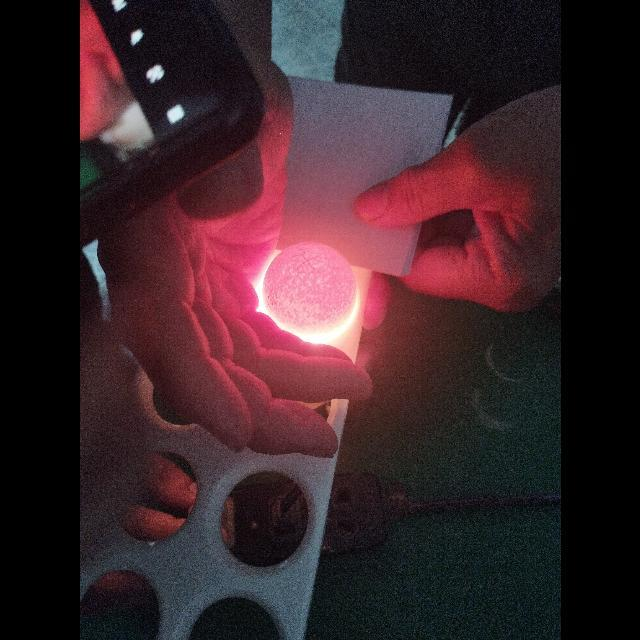Infertile: (270, 252, 350, 326)
